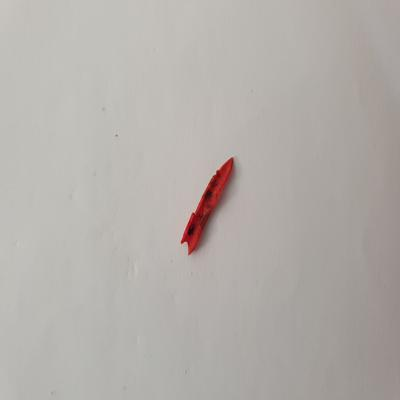plastic: (177, 151, 239, 255)
